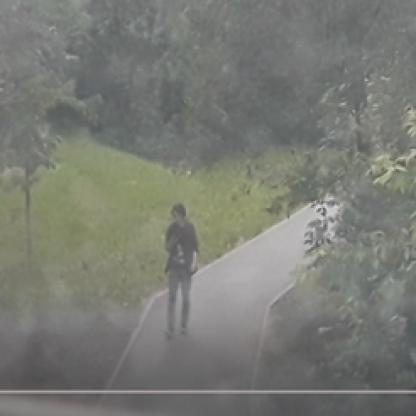Human Body: (156, 199, 204, 341)
